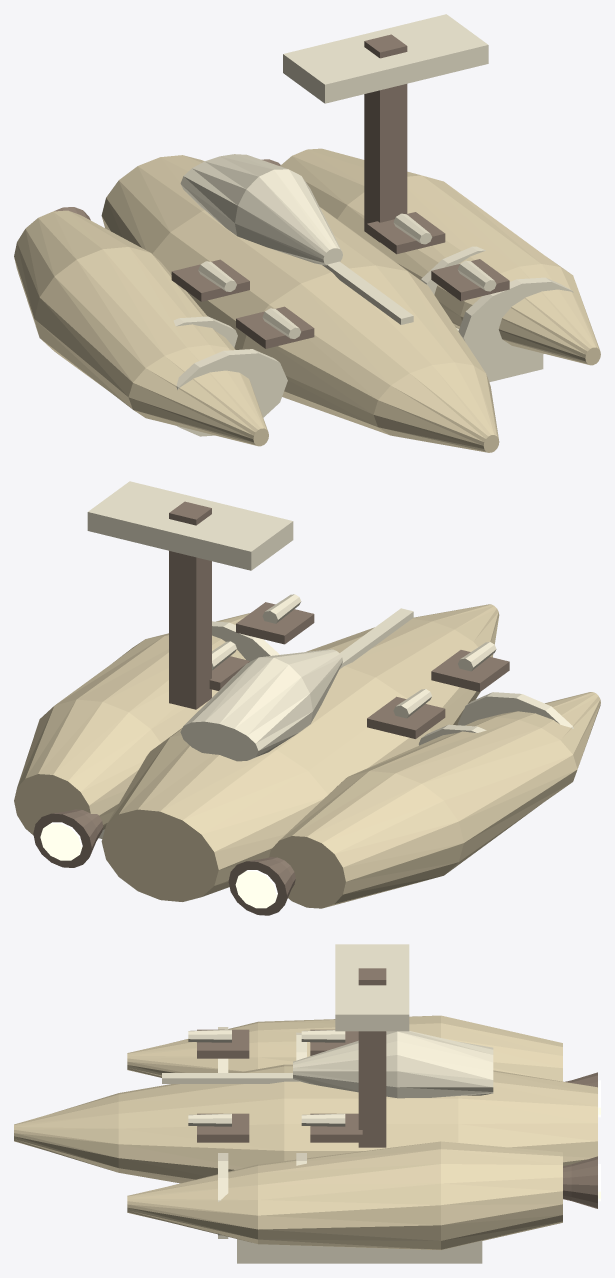
The picture shows the model from 3 angles, top to bottom: view 1: azimuth 30°, elevation 25°; view 2: azimuth 150°, elevation 25°; view 3: azimuth 270°, elevation 25°; orthographic projection. The views are drawn at different scales.
Size of the model in its own units: 9.89 by 6.09 by 12.7.
